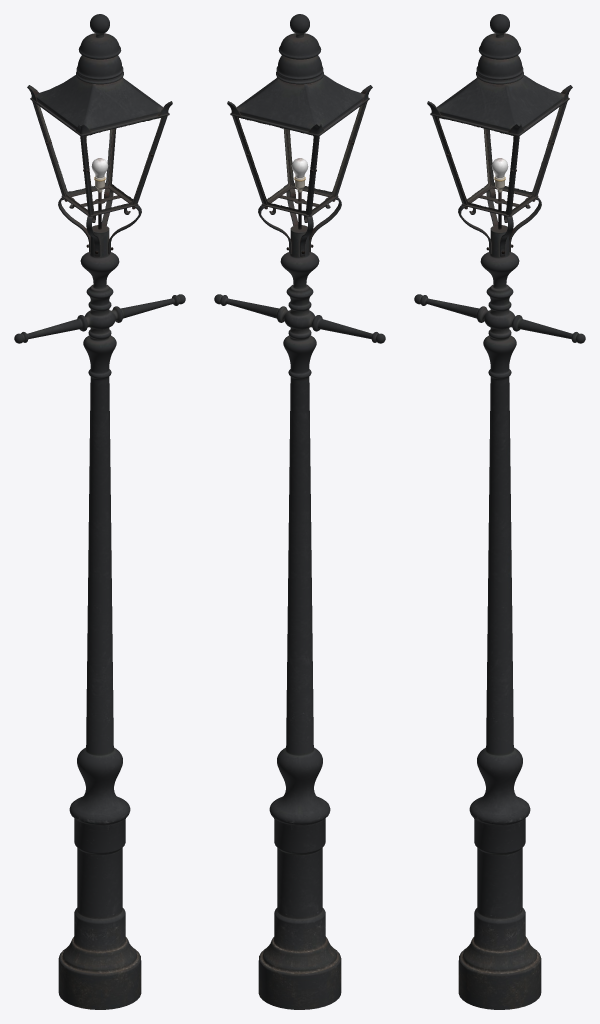
File: street_lamp_01.fbx
3 renders of one model, left to right at view 1: azimuth 30°, elevation 25°; view 2: azimuth 150°, elevation 25°; view 3: azimuth 330°, elevation 25°, orthographic.
Visible parts, largest first — view 1: street_lamp_01; view 2: street_lamp_01; view 3: street_lamp_01.
Part boxes in pixels (x1,y1,x2,y2): street_lamp_01: (14, 14, 185, 1009); street_lamp_01: (214, 14, 385, 1009); street_lamp_01: (414, 14, 585, 1009).
Size of the model in its own units: 70.43 by 387 by 38.65.
3 materials, 3 textured.
